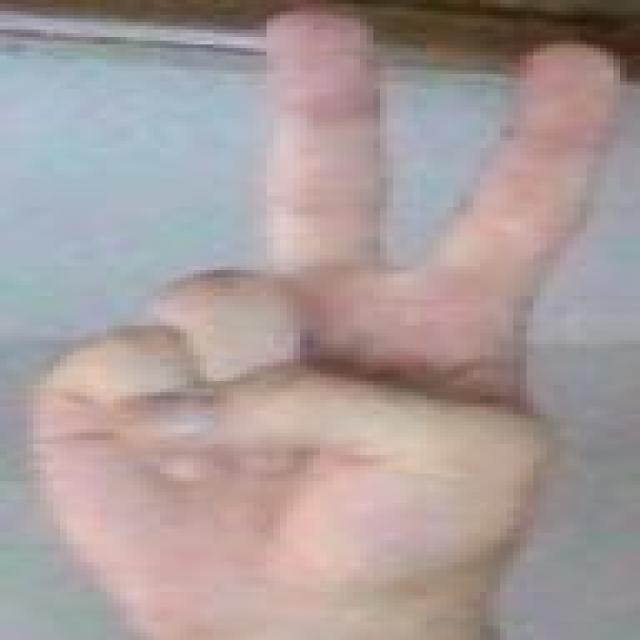V: (6, 3, 640, 640)
